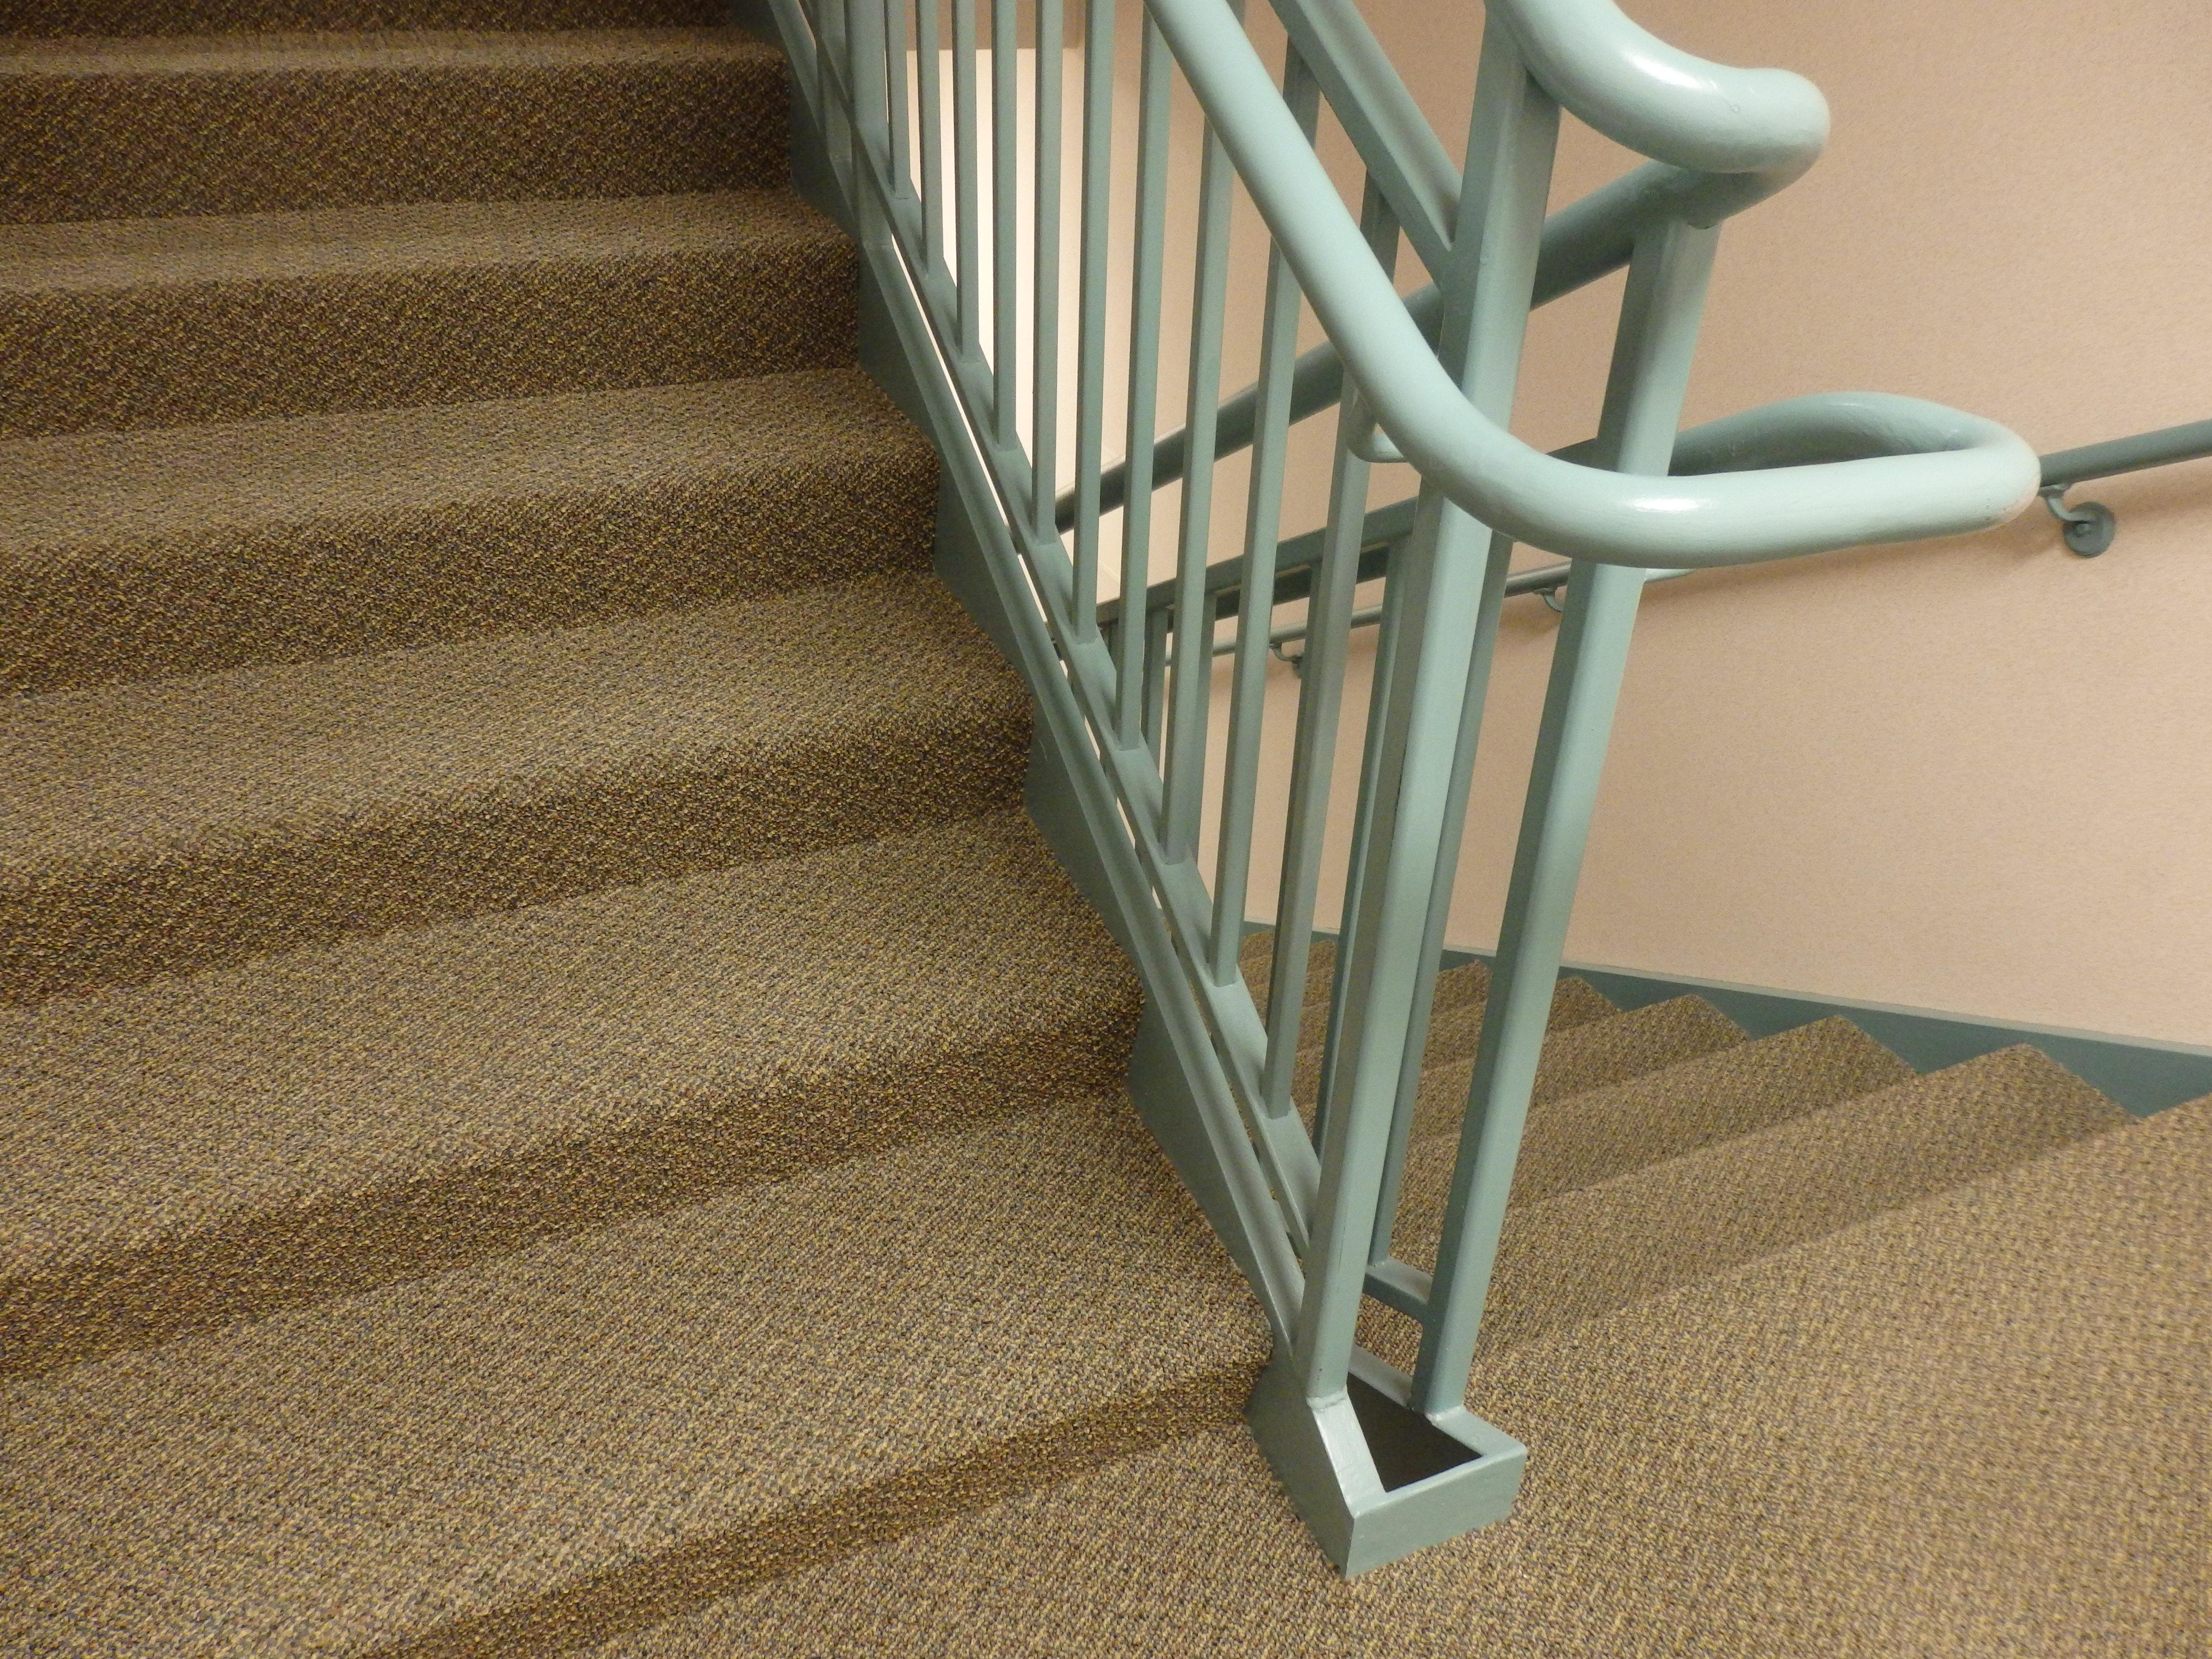stairs_up: (23, 40, 1224, 1520)
